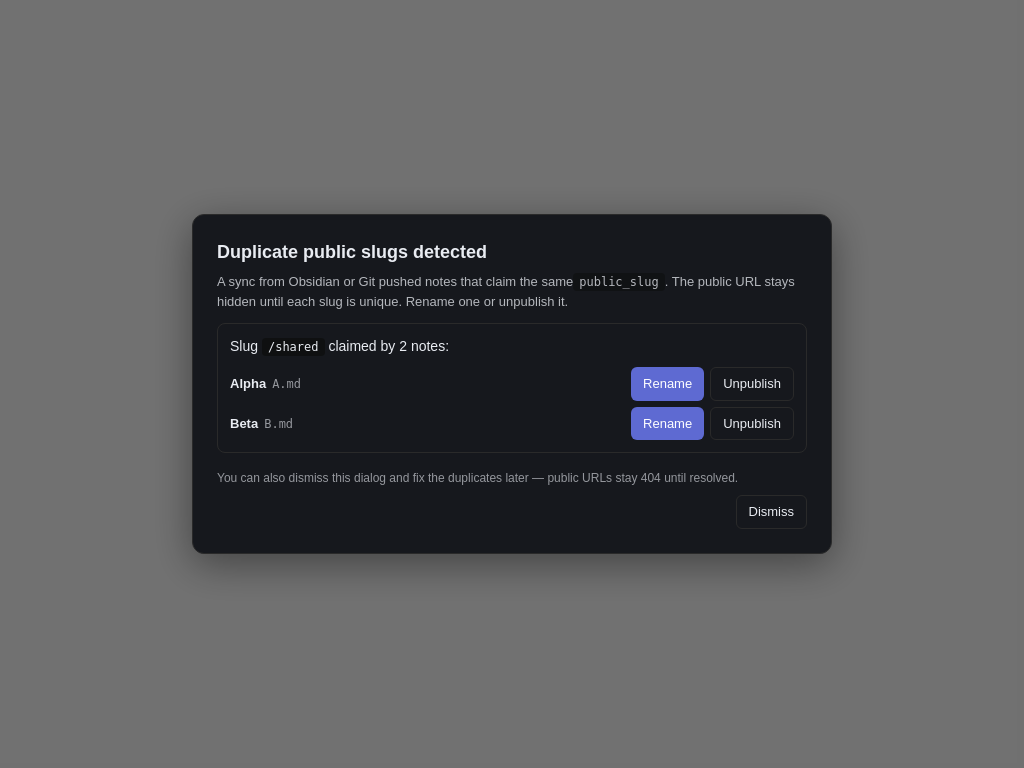
Test: DuplicateConflictModal › surfaces 409 from the rename POST inline
The image size is (1024, 768).
Click the button "Rename" in the row of "Alpha".
click(668, 384)  # box [631,367,704,401]
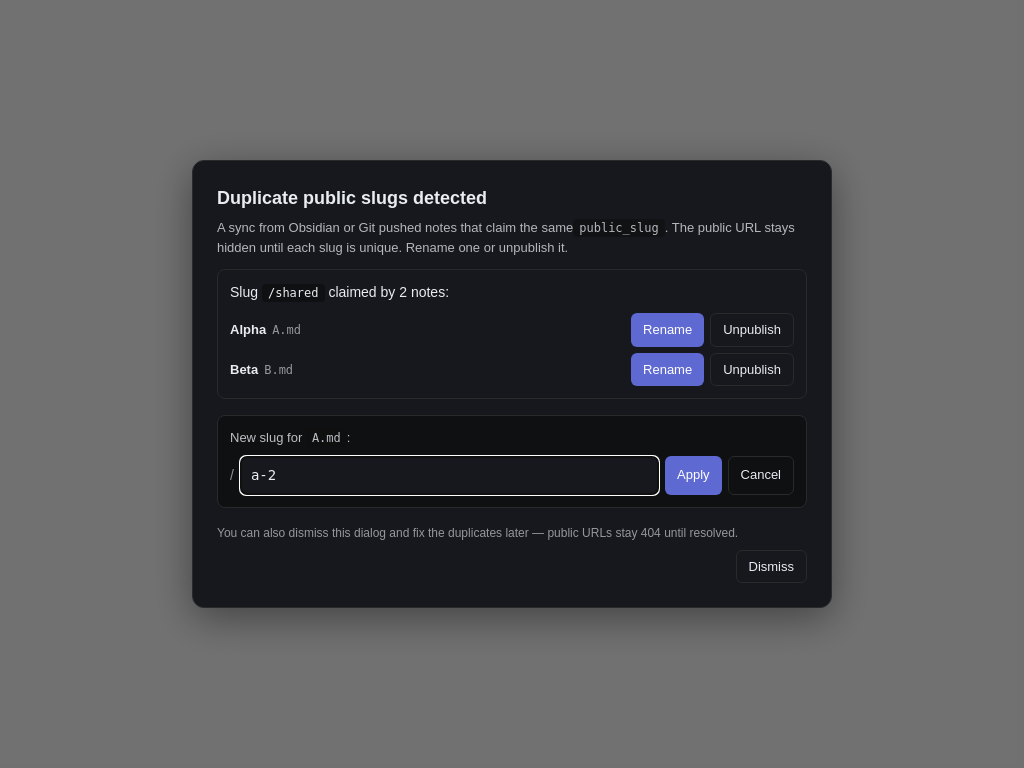
Click the button "Apply".
click(693, 475)  # box [665,456,722,494]
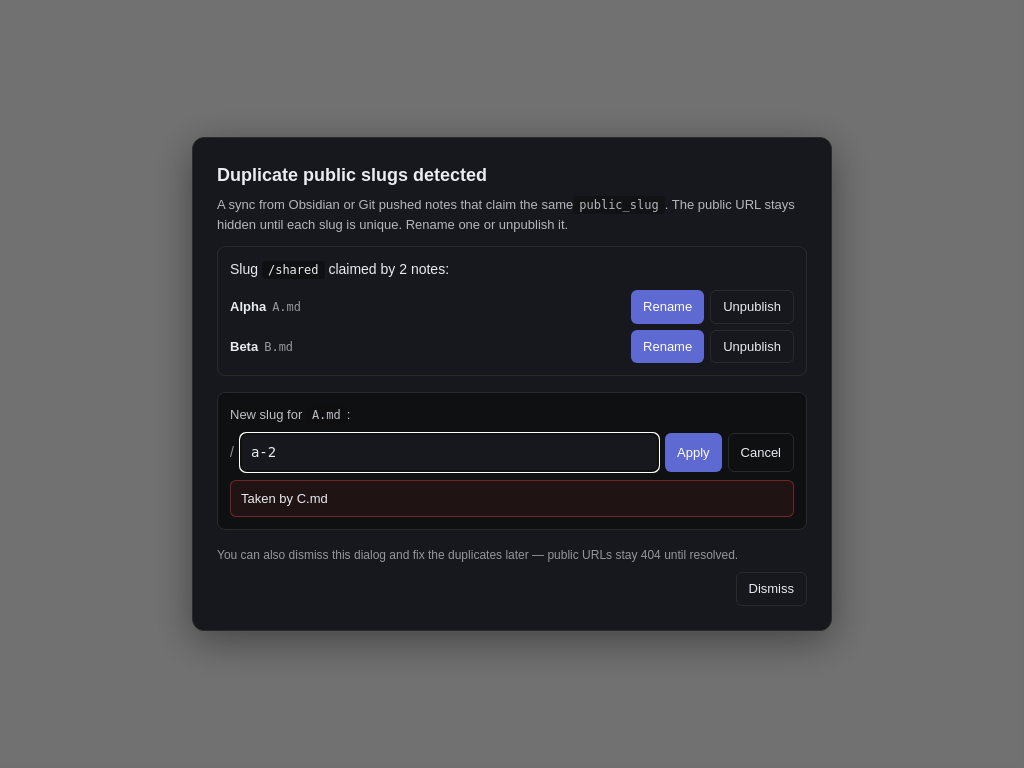
Now the message reads "Taken by C.md", box [241,491,328,506]
